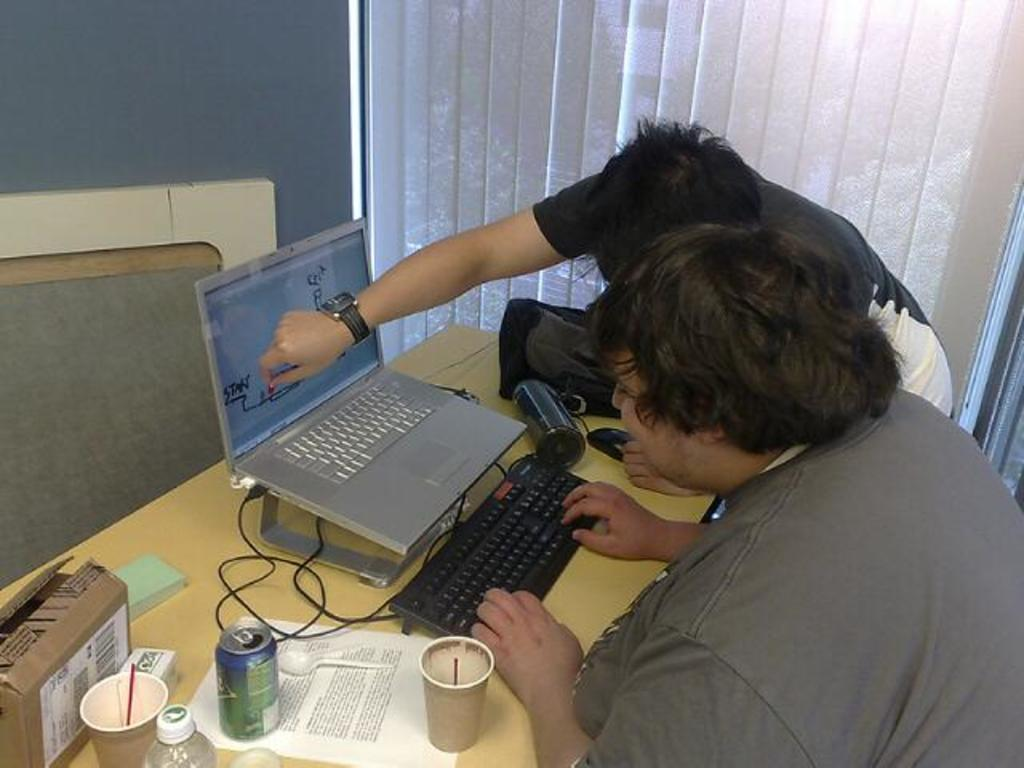Computer-keyboard: (387, 454, 602, 635), (275, 378, 440, 482)
